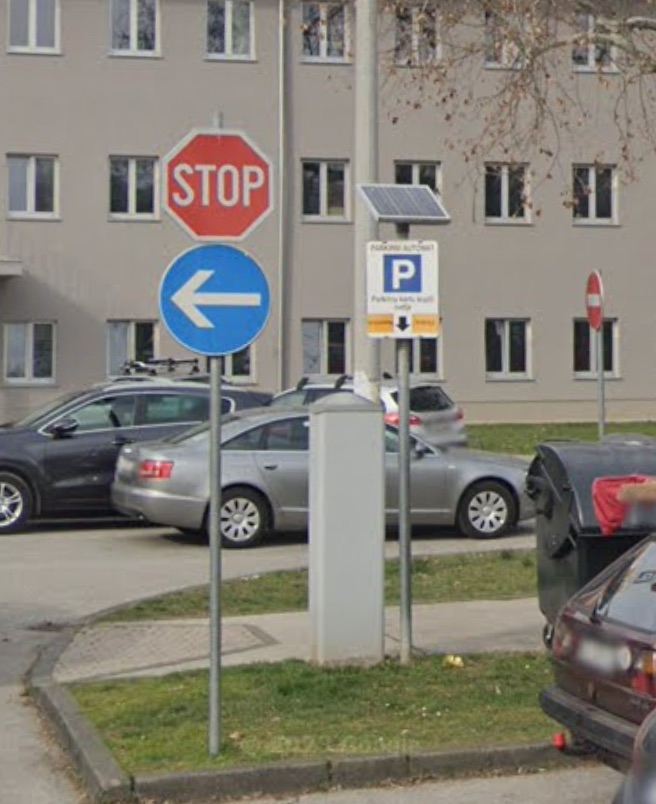Obavezno zaustavljanje: (160, 129, 275, 242)
